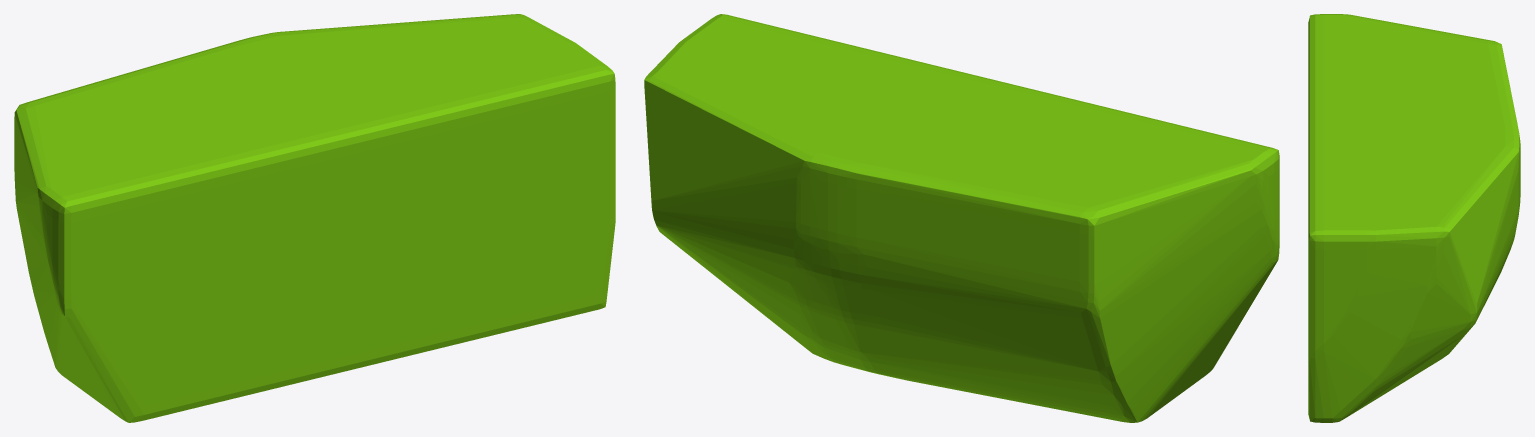
File: left_shoulder_pitch_link_part_4.obj
3 views of the same model, side by side, from view 1: azimuth 30°, elevation 25°; view 2: azimuth 150°, elevation 25°; view 3: azimuth 270°, elevation 25° (orthographic). The views are drawn at different scales.
Bounding box in the file's own units: 0.0673 × 0.0274 × 0.0271.
